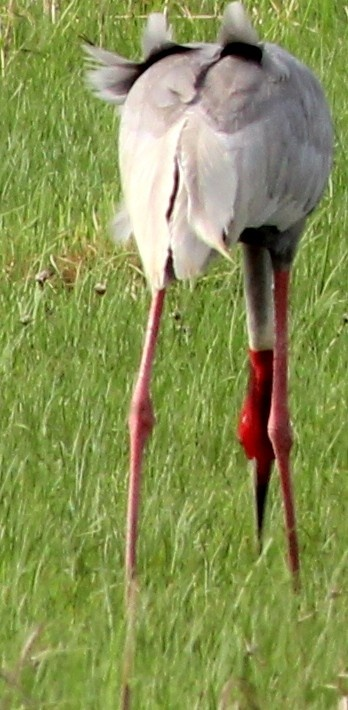crane: (81, 39, 345, 594)
